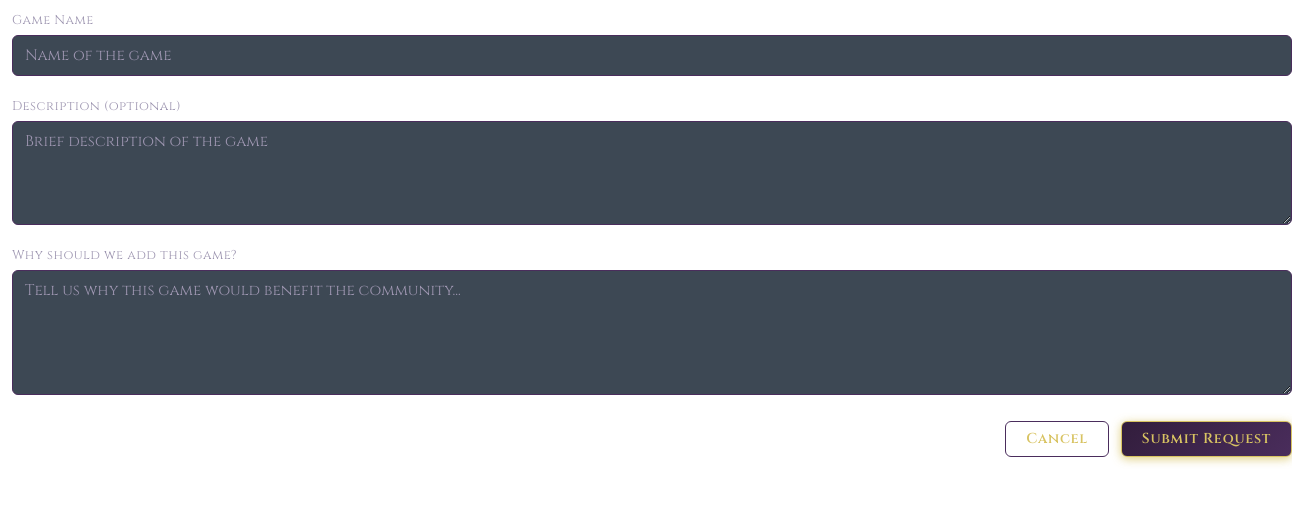
it: GameRequestForm › shows validation error for short game name
The image size is (1304, 510).
Type "A" into the field labelled "Game Name".
click(652, 56); type("A")  # box [12,35,1292,76]
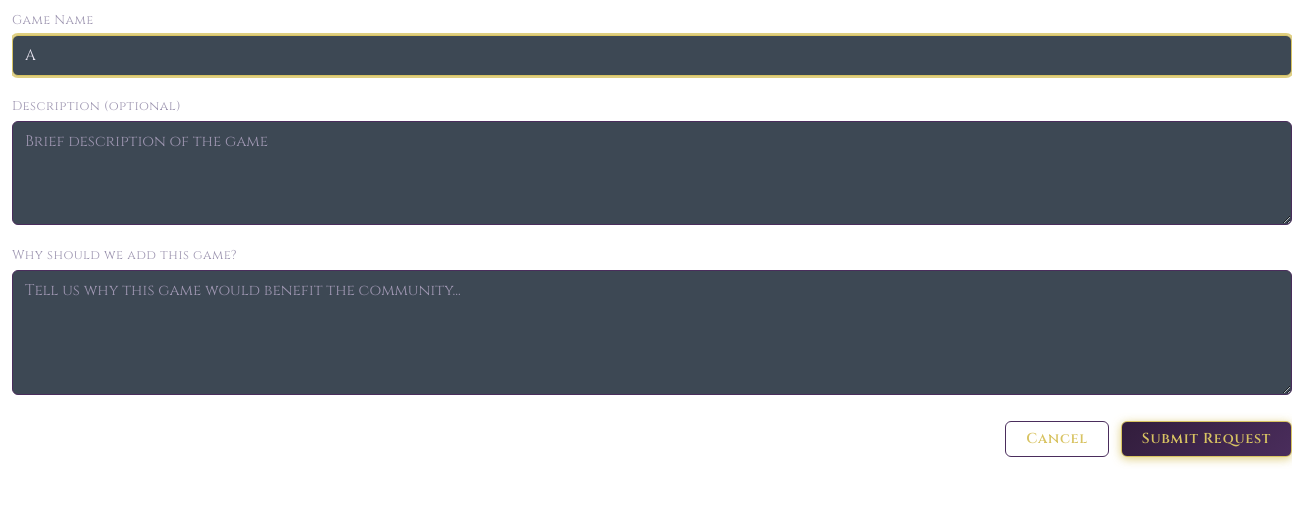
Type "Great game for community." into the text box labelled "Why should we add this game?".
click(652, 332); type("Great game for community.")  # box [12,270,1292,395]
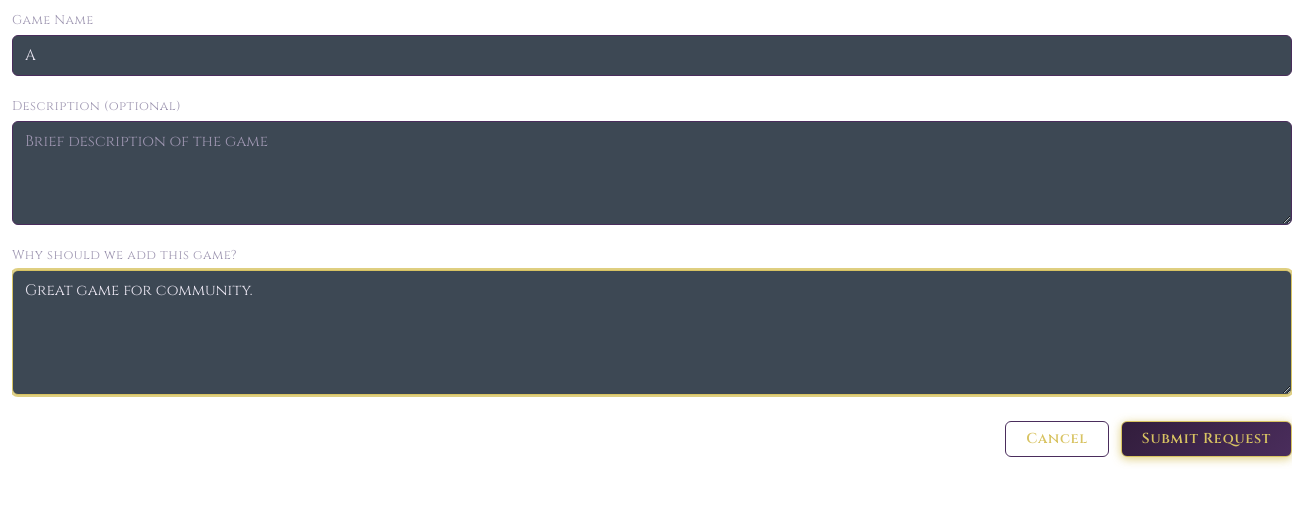
Click the button "Submit Request".
click(1206, 439)  # box [1121,421,1292,457]
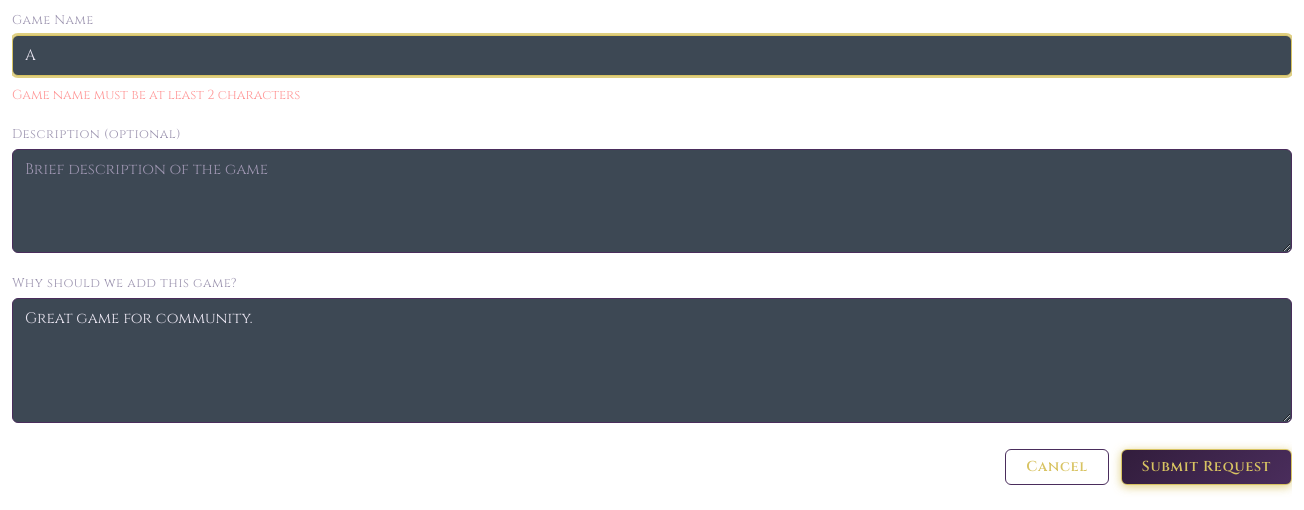
Expected: the text "Game name must be at least 2 characters" is shown, [12,86,300,104]
